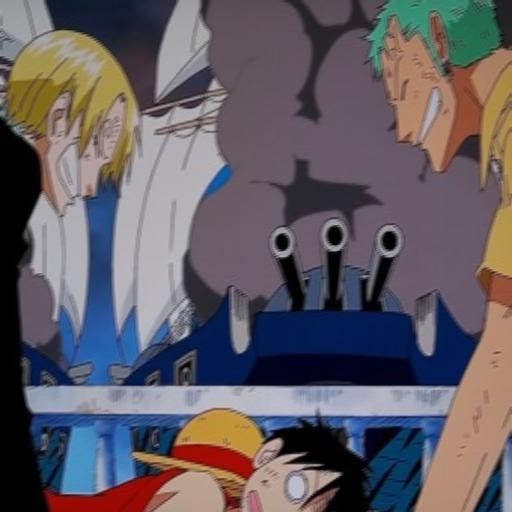Luffy: (230, 403, 374, 512)
Zoro: (367, 0, 512, 178)
sanji: (0, 22, 147, 228)
